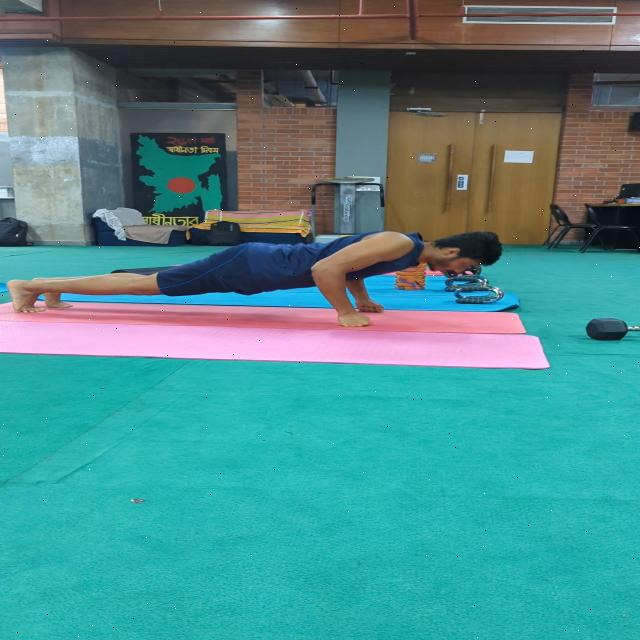Normal_PushUps: (9, 223, 512, 340)
